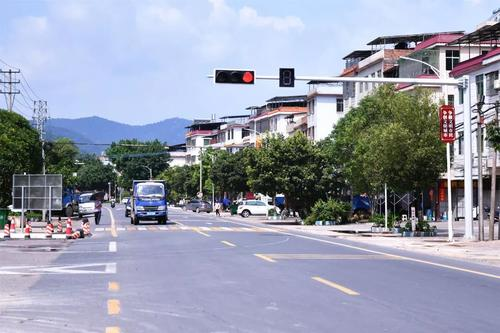red: (212, 68, 257, 87)
